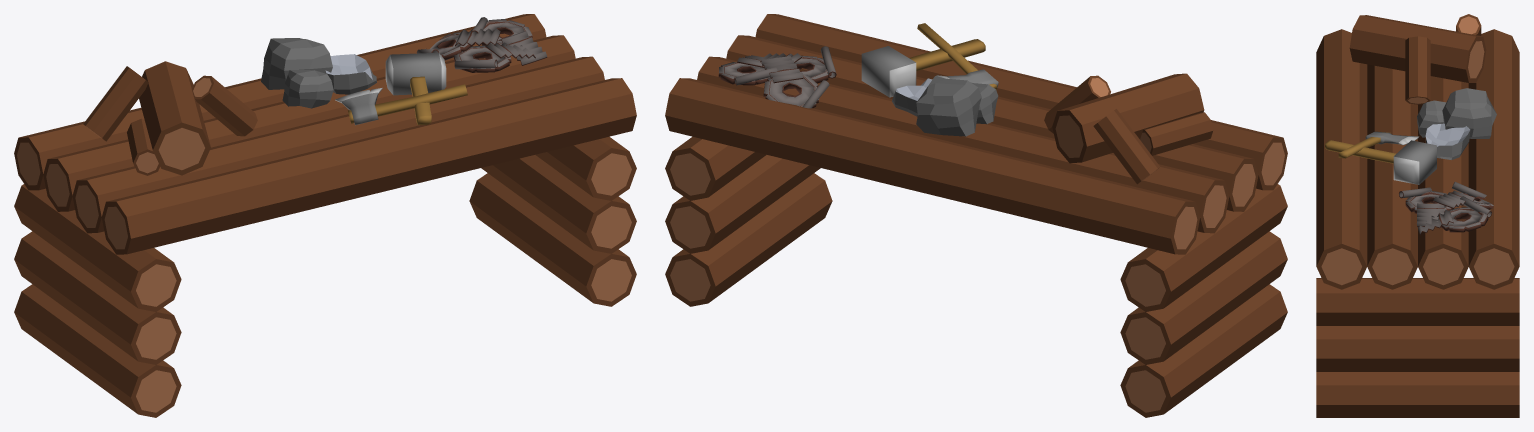
File: CraftingTable.fbx
3 renders of one model, left to right at view 1: azimuth 30°, elevation 25°; view 2: azimuth 150°, elevation 25°; view 3: azimuth 270°, elevation 25°, orthographic. The views are drawn at different scales.
Parts seen in each view (by area): view 1: Table; view 2: Table; view 3: Table.
Part boxes in pixels (bbox=[...]): Table: bbox=[14, 14, 636, 417]; Table: bbox=[665, 14, 1287, 417]; Table: bbox=[1316, 14, 1519, 417].
Bounding box in the file's own units: 200 × 103 × 80.04.
